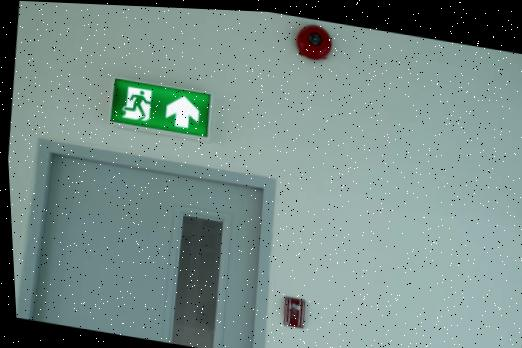emergency_exit: (109, 77, 211, 138)
